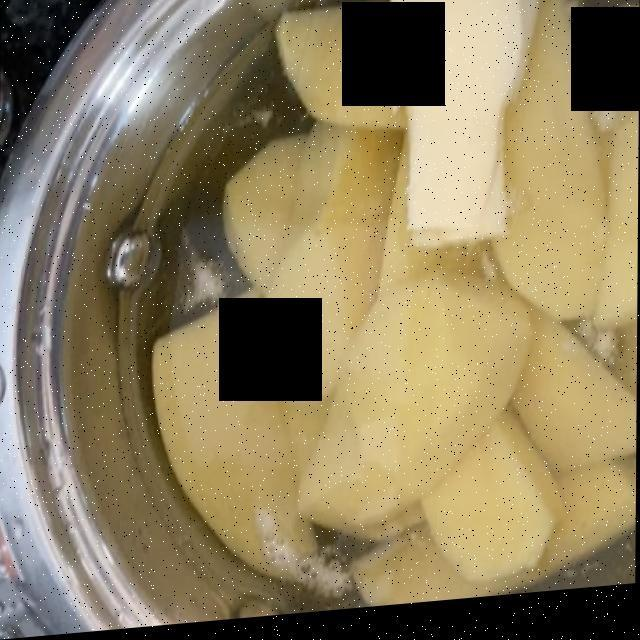potatoes: (150, 0, 632, 587)
